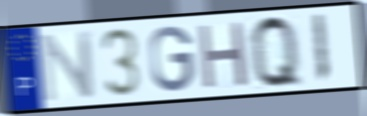3: (99, 26, 142, 100)
G: (147, 24, 196, 95)
H: (196, 19, 250, 92)
I: (310, 12, 332, 86)
N: (38, 28, 97, 105)
Q: (247, 12, 305, 91)
